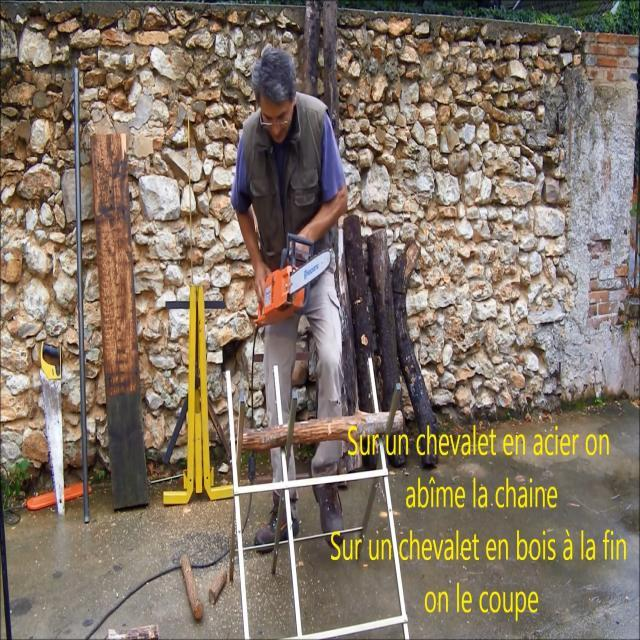Chainsaw: (248, 201, 338, 329)
